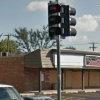Traffic light: (44, 0, 84, 44)
